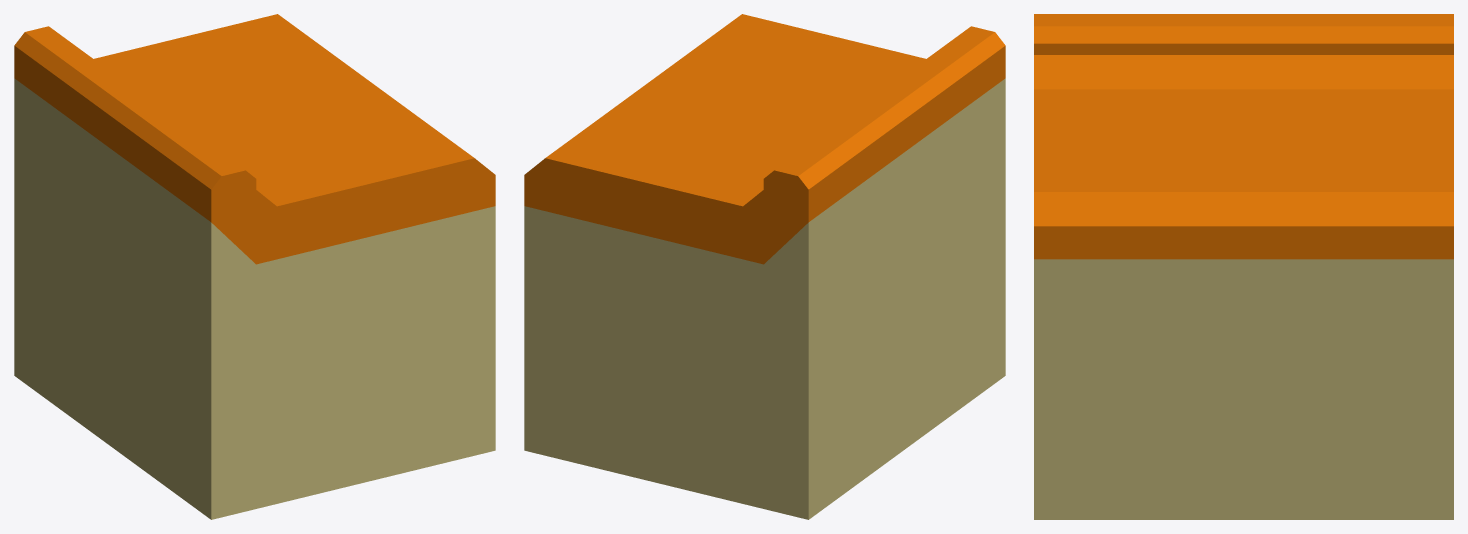
File: Counter.fbx
The picture shows the model from 3 angles, left to right: view 1: azimuth 30°, elevation 25°; view 2: azimuth 150°, elevation 25°; view 3: azimuth 270°, elevation 25°; orthographic projection. The views are drawn at different scales.
Visible parts, largest first — view 1: pCube4; view 2: pCube4; view 3: pCube4.
Boxes of the visible parts, <box> form: pCube4: <box>14,14,495,519</box>; pCube4: <box>524,14,1005,519</box>; pCube4: <box>1034,14,1453,519</box>.
Size of the model in its own units: 5 by 5.73 by 6.
